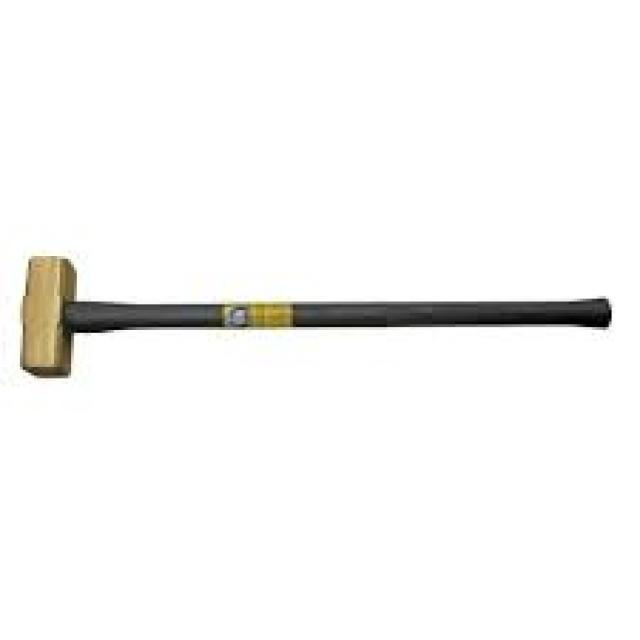hammer: (11, 246, 628, 390)
